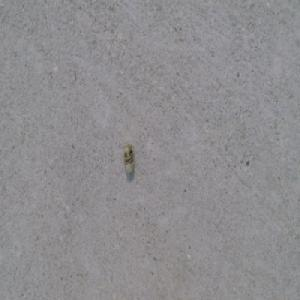BoltNutSet: (123, 145, 135, 172)
